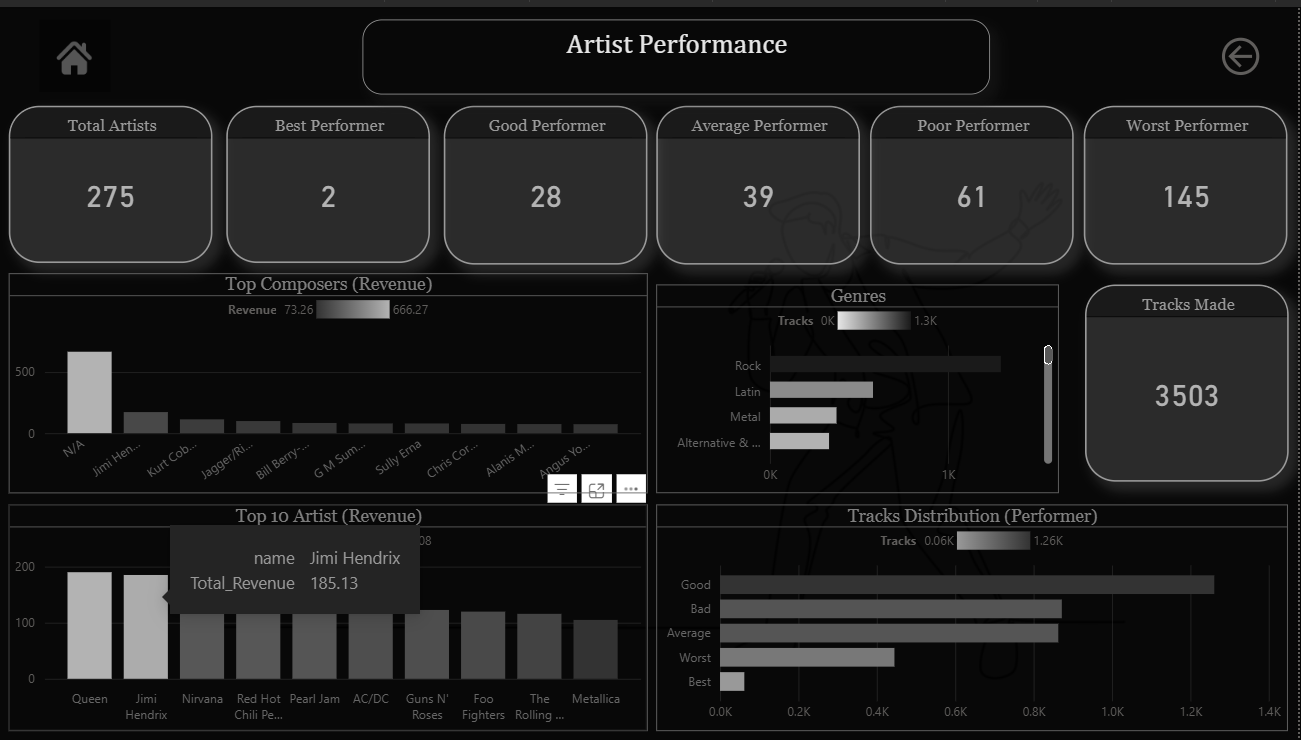

This screenshot's page, from the dashboard's own definition file:
{"tool":"powerbi","page":{"name":"Artists","canvas":[1280,720],"ordinal":1},"visuals":[{"type":"columnChart","title":"Top 10 Artist (Revenue)","fields":{"Category":["Artist.name"],"Y":["invoice_line.Total_Revenue"]},"box":[13.5,488.3,627,222.1],"z":0},{"type":"card","title":"Total Artists","fields":{"Values":["Artist.Total_Artist"]},"box":[13.5,96.9,200,154.6],"z":1000},{"type":"card","title":"Poor Performer","fields":{"Values":["Artist.Bad_Performers"]},"box":[858.9,96.9,200,155.8],"z":2000},{"type":"card","title":"Best Performer","fields":{"Values":["Artist.Best_Performers"]},"box":[227,96.9,200,154.6],"z":3000},{"type":"card","title":"Good Performer","fields":{"Values":["Artist.Good_Performers"]},"box":[440.5,96.9,200,155.8],"z":4000},{"type":"card","title":"Worst Performer","fields":{"Values":["Artist.Worst_Performers"]},"box":[1068.7,96.9,200,155.8],"z":5000},{"type":"card","title":"Average Performer","fields":{"Values":["Artist.Average_Performers"]},"box":[649.1,96.9,200,155.8],"z":6000},{"type":"barChart","title":"Tracks Distribution (Performer)","fields":{"Category":["Performance_Table.Performance"],"Y":["Performance_Table.Tracks_By_Performance"]},"box":[649.1,488.3,619.6,222.1],"z":7000},{"type":"textbox","title":"Artist Performance","box":[360.7,12.3,616,73.6],"z":8000},{"type":"columnChart","title":"Top Composers (Revenue)","fields":{"Category":["track.composer"],"Y":["invoice_line.Total_Revenue"]},"box":[13.5,261.4,627,216],"z":9000},{"type":"actionButton","box":[1198.8,24.5,61.4,47.9],"z":10000},{"type":"card","title":"Tracks Made","fields":{"Values":["track.Total_Tracks"]},"box":[1069.9,272.4,200,193.9],"z":11000},{"type":"barChart","title":"Genres","fields":{"Category":["genre.name"],"Y":["track.Total_Tracks"]},"box":[649.1,272.4,395.1,204.9],"z":12000},{"type":"image","box":[23.3,12.3,110.4,71.2],"z":13000}]}

Visuals, with their boxes in screenshot pixels (x1, y1, x2, y2), scaled from the page's 1280x720 canvas onto the 1301x740 screenshot:
"Top 10 Artist (Revenue)" columnChart: <bbox>14, 502, 651, 730</bbox>
"Total Artists" card: <bbox>14, 100, 217, 258</bbox>
"Poor Performer" card: <bbox>873, 100, 1076, 260</bbox>
"Best Performer" card: <bbox>231, 100, 434, 258</bbox>
"Good Performer" card: <bbox>448, 100, 651, 260</bbox>
"Worst Performer" card: <bbox>1086, 100, 1290, 260</bbox>
"Average Performer" card: <bbox>660, 100, 863, 260</bbox>
"Tracks Distribution (Performer)" barChart: <bbox>660, 502, 1290, 730</bbox>
"Artist Performance" textbox: <bbox>367, 13, 993, 88</bbox>
"Top Composers (Revenue)" columnChart: <bbox>14, 269, 651, 491</bbox>
actionButton: <bbox>1218, 25, 1281, 74</bbox>
"Tracks Made" card: <bbox>1087, 280, 1291, 479</bbox>
"Genres" barChart: <bbox>660, 280, 1061, 491</bbox>
image: <bbox>24, 13, 136, 86</bbox>
